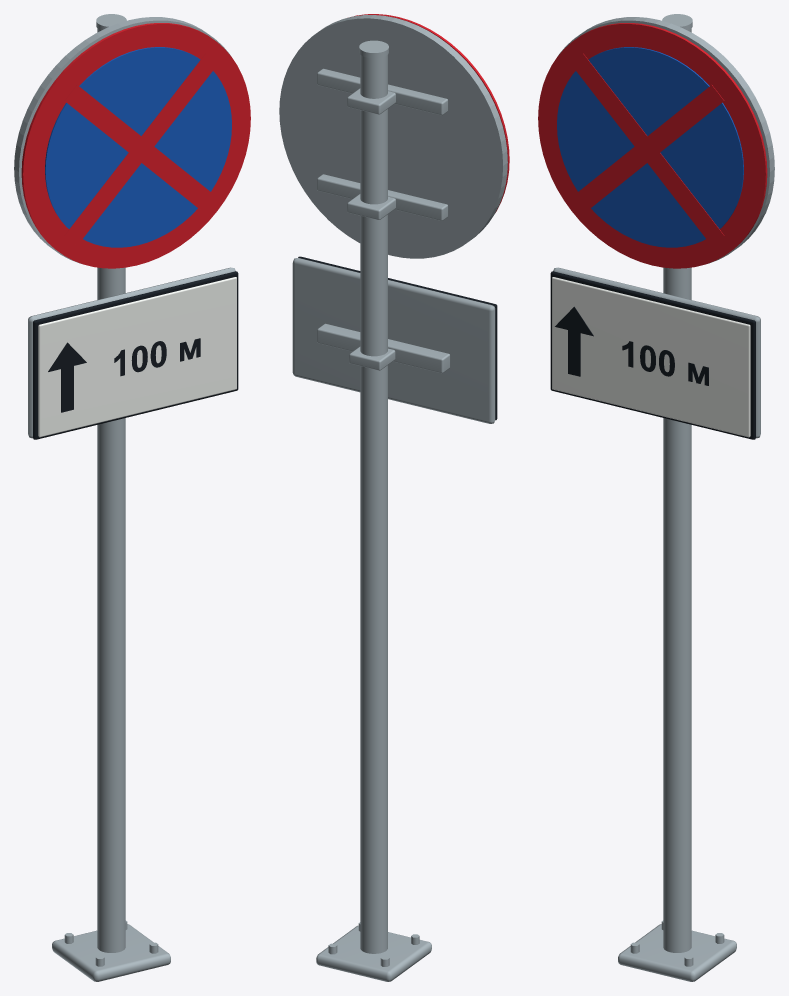
The model's file is DS_Sign_NoStopping_Zone100.glb.
The picture shows the model from 3 angles, left to right: view 1: azimuth 30°, elevation 25°; view 2: azimuth 150°, elevation 25°; view 3: azimuth 330°, elevation 25°; orthographic projection. The views are drawn at different scales.
Visible parts, largest first — view 1: Face_Field.014, PlaqueFace.011, Post.021, Face_Border.014, ProhibitionCross0.001, ProhibitionSlash0.002, BasePlate.021, Plate_Back.027, PlaqueBorder.011, Plate_Back.028, DirectionArrow.013, Legend_100 м.004; view 2: Plate_Back.027, Post.021, Plate_Back.028, BasePlate.021, RearRail.045, RearRail.044, RearRail.043, PlaqueBorder.011, PostClamp.040, PostClamp.039, Face_Border.014, PostClamp.041; view 3: Face_Field.014, PlaqueFace.011, Post.021, Face_Border.014, ProhibitionCross0.001, ProhibitionSlash0.002, BasePlate.021, Plate_Back.027, PlaqueBorder.011, Plate_Back.028, DirectionArrow.013, Legend_100 м.004.
Boxes of the visible parts, x1=… form: Face_Field.014: x1=45, y1=47, x2=231, y2=247; PlaqueFace.011: x1=38, y1=277, x2=236, y2=437; Post.021: x1=97, y1=28, x2=125, y2=952; Face_Border.014: x1=21, y1=23, x2=250, y2=268; ProhibitionCross0.001: x1=64, y1=53, x2=218, y2=245; ProhibitionSlash0.002: x1=64, y1=85, x2=218, y2=213; BasePlate.021: x1=52, y1=924, x2=170, y2=981; Plate_Back.027: x1=14, y1=17, x2=230, y2=263; PlaqueBorder.011: x1=33, y1=271, x2=238, y2=439; Plate_Back.028: x1=28, y1=267, x2=235, y2=438; DirectionArrow.013: x1=48, y1=342, x2=86, y2=412; Legend_100 м.004: x1=114, y1=338, x2=200, y2=376; Plate_Back.027: x1=279, y1=15, x2=507, y2=258; Post.021: x1=360, y1=55, x2=387, y2=953; Plate_Back.028: x1=292, y1=258, x2=495, y2=423; BasePlate.021: x1=316, y1=925, x2=431, y2=981; RearRail.045: x1=317, y1=323, x2=450, y2=373; RearRail.044: x1=317, y1=68, x2=448, y2=115; RearRail.043: x1=317, y1=174, x2=448, y2=220; PlaqueBorder.011: x1=298, y1=256, x2=497, y2=420; PostClamp.040: x1=347, y1=88, x2=395, y2=114; PostClamp.039: x1=347, y1=194, x2=395, y2=219; Face_Border.014: x1=354, y1=14, x2=509, y2=212; PostClamp.041: x1=349, y1=346, x2=395, y2=370; Face_Field.014: x1=557, y1=47, x2=743, y2=247; PlaqueFace.011: x1=552, y1=277, x2=750, y2=437; Post.021: x1=663, y1=28, x2=691, y2=952; Face_Border.014: x1=538, y1=23, x2=767, y2=268; ProhibitionCross0.001: x1=570, y1=85, x2=724, y2=213; ProhibitionSlash0.002: x1=570, y1=53, x2=724, y2=245; BasePlate.021: x1=618, y1=924, x2=736, y2=981; Plate_Back.027: x1=558, y1=17, x2=774, y2=263; PlaqueBorder.011: x1=550, y1=271, x2=755, y2=439; Plate_Back.028: x1=553, y1=267, x2=760, y2=438; DirectionArrow.013: x1=555, y1=306, x2=593, y2=376; Legend_100 м.004: x1=622, y1=341, x2=708, y2=385.
Bounding box in the file's own units: 0.71 × 2.81 × 0.281.
